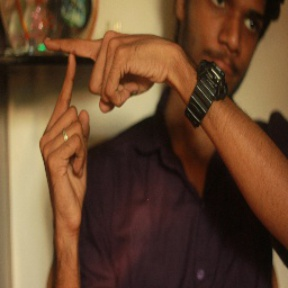T: (32, 28, 112, 134)
